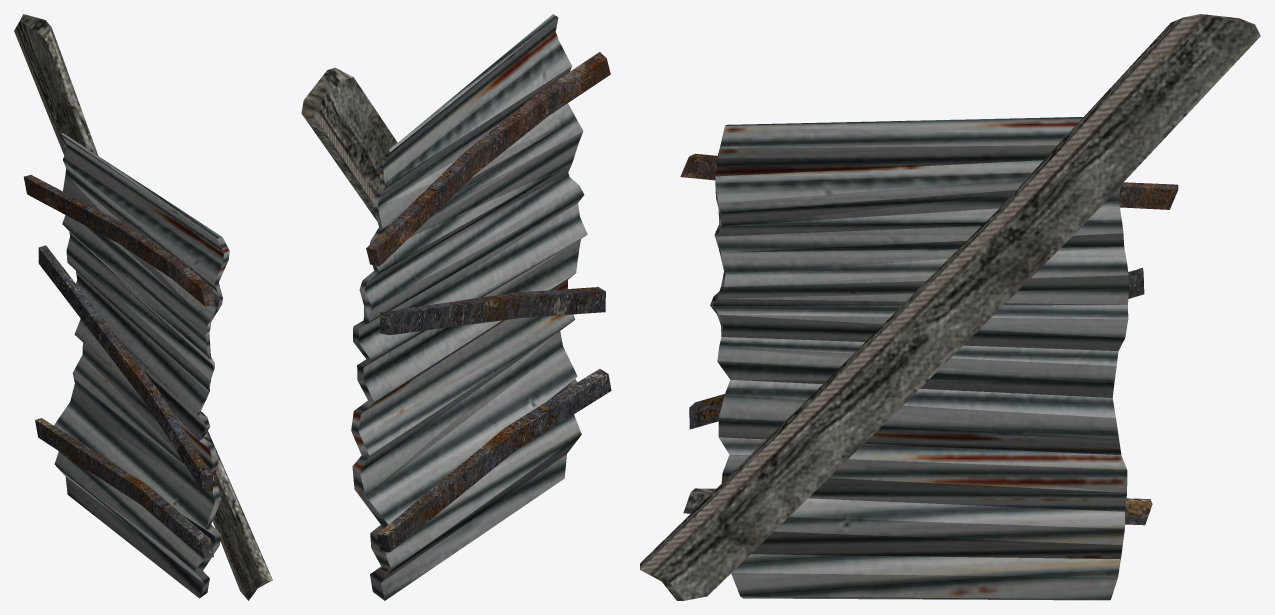
File: SM_Asylum_WindowsBlocker01.fbx
3 views of the same model, side by side, from view 1: azimuth 30°, elevation 25°; view 2: azimuth 150°, elevation 25°; view 3: azimuth 270°, elevation 25° (orthographic). The views are drawn at different scales.
Parts seen in each view (by area): view 1: SM_Asylum_WindowsBlocker01.mo; view 2: SM_Asylum_WindowsBlocker01.mo; view 3: SM_Asylum_WindowsBlocker01.mo.
Boxes of the visible parts, x1=… form: SM_Asylum_WindowsBlocker01.mo: x1=14, y1=14, x2=272, y2=600; SM_Asylum_WindowsBlocker01.mo: x1=301, y1=14, x2=611, y2=600; SM_Asylum_WindowsBlocker01.mo: x1=640, y1=14, x2=1260, y2=600.
Size of the model in its own units: 19.38 by 161 by 152.
